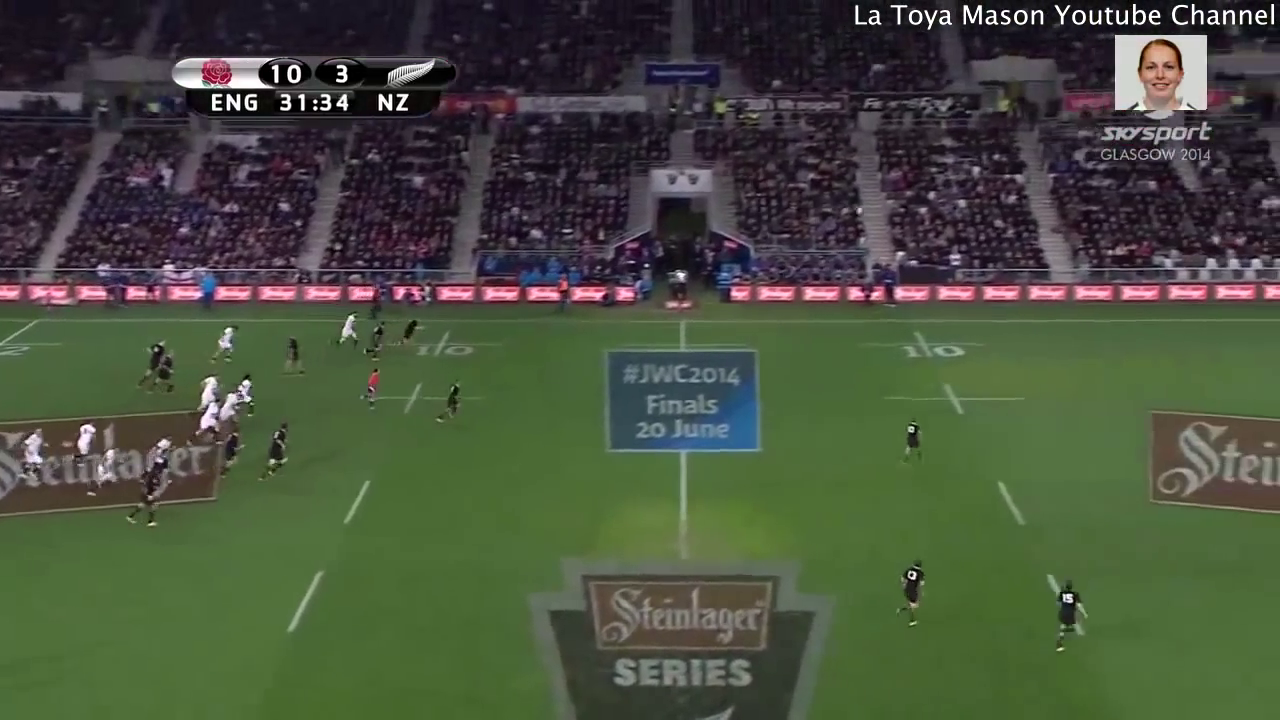player: (1036, 577, 1092, 655), (118, 466, 171, 533), (890, 548, 930, 629), (79, 436, 126, 501), (255, 418, 298, 484), (15, 422, 54, 488), (144, 345, 185, 404), (128, 335, 165, 399), (205, 318, 245, 373), (272, 332, 317, 380), (891, 416, 928, 472), (430, 375, 472, 424), (184, 397, 226, 445), (65, 416, 102, 467), (212, 427, 250, 475), (325, 307, 362, 354), (357, 358, 387, 412), (358, 313, 391, 362), (233, 368, 262, 418), (214, 389, 247, 426), (145, 434, 183, 466), (195, 370, 219, 418), (146, 449, 171, 490), (395, 315, 419, 355)
